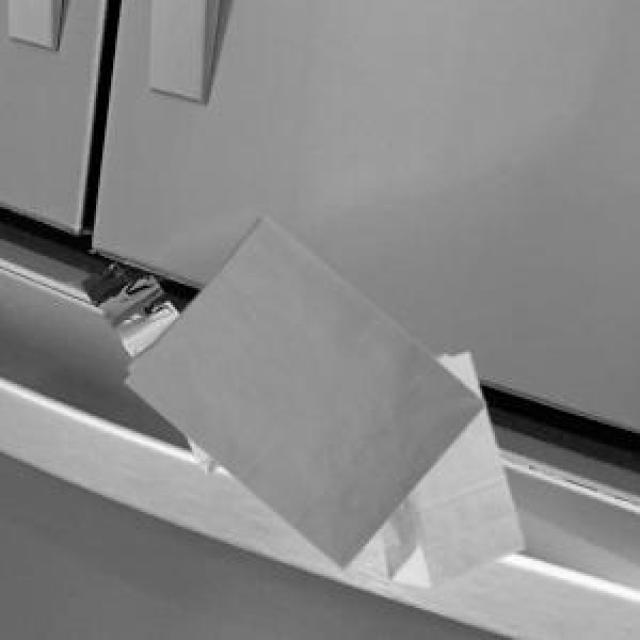paper: (122, 213, 482, 565), (378, 350, 521, 582), (79, 258, 216, 472)
